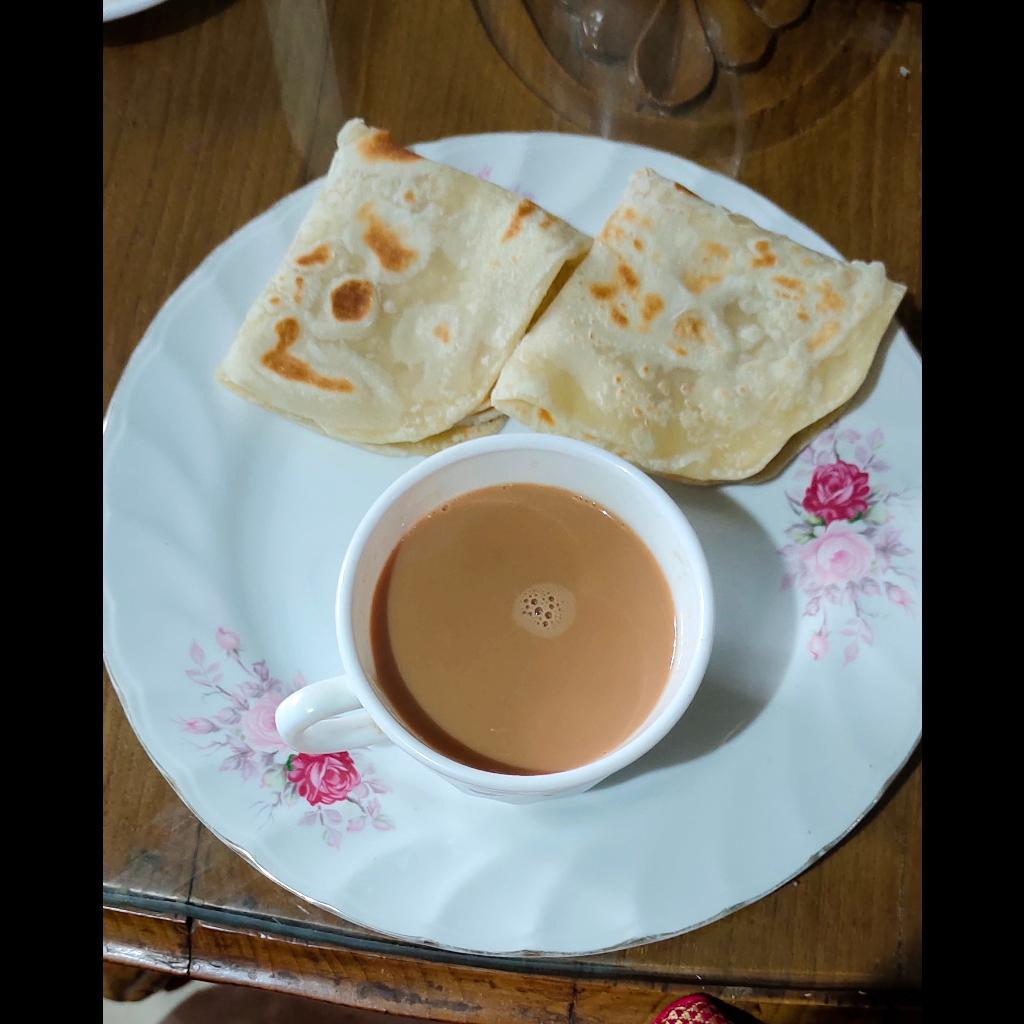cha: (368, 481, 670, 772)
ruti: (213, 112, 913, 486)
